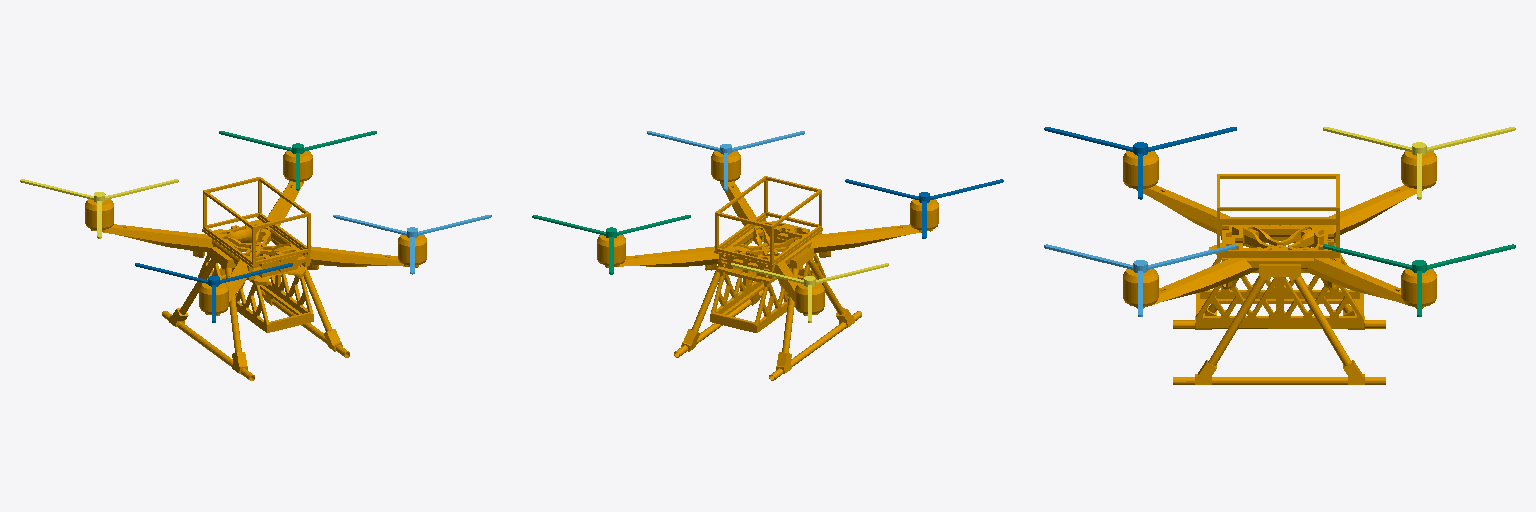
The robot description file, URDF, robot "quadrotor":
<?xml version="1.0"?>
<robot name="quadrotor">

  <!-- main body -->
  <link name="base_link">
    <visual>
      <origin xyz="0 0 0" rpy="1.5708 0 0"/>
      <geometry>
        <mesh filename="Draft9s.stl"/>
      </geometry>
    </visual>
    <collision>
      <origin xyz="0 0 0" rpy="1.5708 0 0"/>
      <geometry>
        <mesh filename="Draft9s.stl"/>
      </geometry>
    </collision>
    <inertial>
      <mass value="3.0"/>
      <inertia ixx="0.03" iyy="0.03" izz="0.06" ixy="0" ixz="0" iyz="0"/>
      <origin xyz="0 0 0" rpy="0 0 0"/>
    </inertial>
  </link>

  <!-- rotor links -->
  <link name="rotor_1">
    <visual>
      <origin xyz="0 0 0" rpy="0 0 0"/>
      <geometry>
        <mesh filename="HQ_0MacroQuad_Prop_10.stl"/>
      </geometry>
    </visual>
    <collision>
      <origin xyz="0 0 0" rpy="0 0 0"/>
      <geometry>
        <mesh filename="HQ_0MacroQuad_Prop_10.stl"/>
      </geometry>
    </collision>
    <inertial>
      <mass value="0.05"/>
      <inertia ixx="0.0001" iyy="0.0001" izz="0.0001" ixy="0" ixz="0" iyz="0"/>
      <origin xyz="0 0 0" rpy="0 0 0"/>
    </inertial>
  </link>

  <link name="rotor_2">
    <visual>
      <origin xyz="0 0 0" rpy="0 0 0"/>
      <geometry>
        <mesh filename="HQ_0MacroQuad_Prop_10.stl"/>
      </geometry>
    </visual>
    <collision>
      <origin xyz="0 0 0" rpy="0 0 0"/>
      <geometry>
        <mesh filename="HQ_0MacroQuad_Prop_10.stl"/>
      </geometry>
    </collision>
    <inertial>
      <mass value="0.05"/>
      <inertia ixx="0.0001" iyy="0.0001" izz="0.0001" ixy="0" ixz="0" iyz="0"/>
      <origin xyz="0 0 0" rpy="0 0 0"/>
    </inertial>
  </link>

  <link name="rotor_3">
    <visual>
      <origin xyz="0 0 0" rpy="0 0 0"/>
      <geometry>
        <mesh filename="HQ_0MacroQuad_Prop_10.stl"/>
      </geometry>
    </visual>
    <collision>
      <origin xyz="0 0 0" rpy="0 0 0"/>
      <geometry>
        <mesh filename="HQ_0MacroQuad_Prop_10.stl"/>
      </geometry>
    </collision>
    <inertial>
      <mass value="0.05"/>
      <inertia ixx="0.0001" iyy="0.0001" izz="0.0001" ixy="0" ixz="0" iyz="0"/>
      <origin xyz="0 0 0" rpy="0 0 0"/>
    </inertial>
  </link>

  <link name="rotor_4">
    <visual>
      <origin xyz="0 0 0" rpy="0 0 0"/>
      <geometry>
        <mesh filename="HQ_0MacroQuad_Prop_10.stl"/>
      </geometry>
    </visual>
    <collision>
      <origin xyz="0 0 0" rpy="0 0 0"/>
      <geometry>
        <mesh filename="HQ_0MacroQuad_Prop_10.stl"/>
      </geometry>
    </collision>
    <inertial>
      <mass value="0.05"/>
      <inertia ixx="0.0001" iyy="0.0001" izz="0.0001" ixy="0" ixz="0" iyz="0"/>
      <origin xyz="0 0 0" rpy="0 0 0"/>
    </inertial>
  </link>

  <!-- rotors to base -->
  <joint name="rotor_1_joint" type="revolute">
    <parent link="base_link"/>
    <child link="rotor_1"/>
    <origin xyz="0.1636 -0.1637 0.0485" rpy="1.5708 0 0"/>
    <axis xyz="0 0 1"/>
    <limit lower="0" upper="1000" effort="1.0" velocity="1000"/>
  </joint>

  <joint name="rotor_2_joint" type="revolute">
    <parent link="base_link"/>
    <child link="rotor_2"/>
    <origin xyz="0.1636 0.1637 0.0485" rpy="1.5708 0 0"/>
    <axis xyz="0 0 1"/>
    <limit lower="0" upper="1000" effort="1.0" velocity="1000"/>
  </joint>

  <joint name="rotor_3_joint" type="revolute">
    <parent link="base_link"/>
    <child link="rotor_3"/>
    <origin xyz="-0.1636 0.1637 0.0485" rpy="1.5708 0 0"/>
    <axis xyz="0 0 1"/>
    <limit lower="0" upper="1000" effort="1.0" velocity="1000"/>
  </joint>

  <joint name="rotor_4_joint" type="revolute">
    <parent link="base_link"/>
    <child link="rotor_4"/>
    <origin xyz="-0.1637 -0.1637 0.0485" rpy="1.5708 0 0"/>
    <axis xyz="0 0 1"/>
    <limit lower="0" upper="1000" effort="1.0" velocity="1000"/>
  </joint>

</robot>

--- Facts derived from the render (not from the file) ---
3 views of the same robot in one strip: view 1: azimuth 30°, elevation 25°; view 2: azimuth 150°, elevation 25°; view 3: azimuth 270°, elevation 25° (orthographic).
Robot: quadrotor — 5 links, 4 joints (4 revolute); root link base_link; default pose: every joint at zero.
Links seen in each view (by area): view 1: base_link, rotor_3, rotor_1, rotor_4, rotor_2; view 2: base_link, rotor_4, rotor_2, rotor_3, rotor_1; view 3: base_link, rotor_3, rotor_1, rotor_2, rotor_4.
Link boxes in pixels (x1,y1,x2,y2): base_link: (85, 151, 426, 380); rotor_3: (20, 179, 178, 238); rotor_1: (333, 215, 491, 274); rotor_4: (135, 263, 292, 322); rotor_2: (219, 131, 376, 190); base_link: (597, 151, 938, 380); rotor_4: (845, 179, 1003, 238); rotor_2: (532, 215, 690, 274); rotor_3: (731, 263, 888, 322); rotor_1: (647, 131, 804, 190); base_link: (1123, 151, 1436, 384); rotor_3: (1323, 127, 1515, 199); rotor_1: (1044, 244, 1236, 316); rotor_2: (1323, 244, 1515, 316); rotor_4: (1044, 127, 1236, 199).
Bounding box of the posed robot: 0.5238 × 0.5534 × 0.2145 m (x, y, z).
5 mesh visuals loaded from 2 distinct referenced files (2 binary STL).